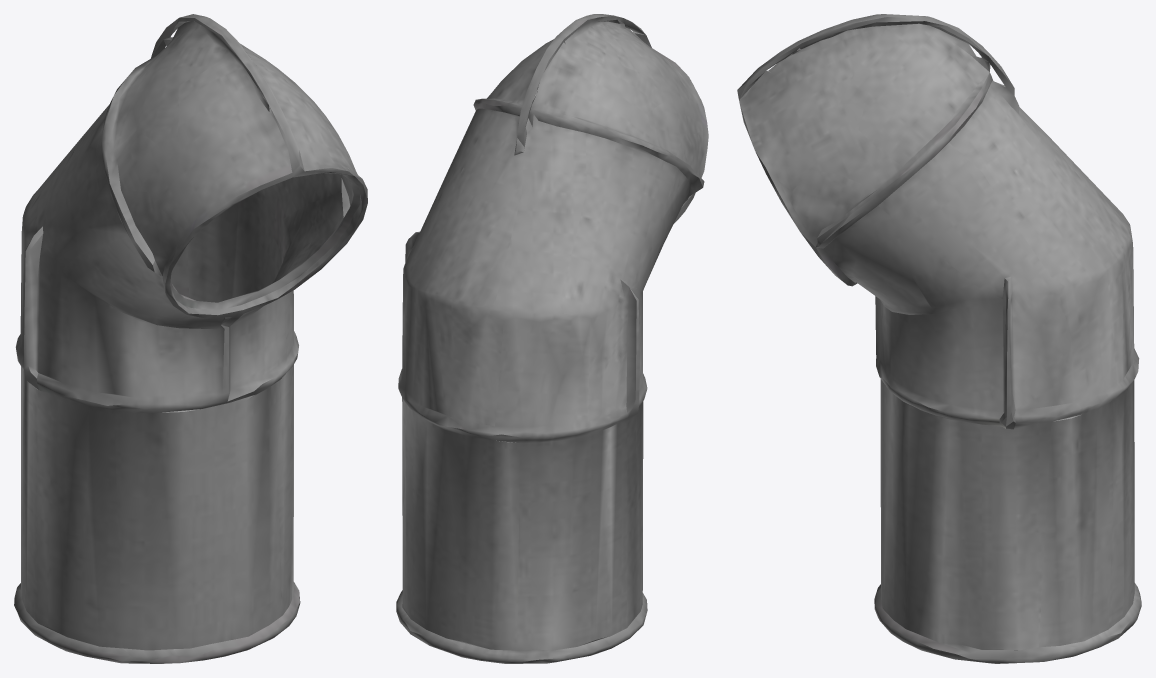
File: duct.glb
3 renders of one model, left to right at view 1: azimuth 30°, elevation 25°; view 2: azimuth 150°, elevation 25°; view 3: azimuth 270°, elevation 25°, orthographic. The views are drawn at different scales.
Visible parts, largest first — view 1: duct; view 2: duct; view 3: duct.
Boxes of the visible parts, x1,y1,x2,y2 form: duct: [14, 14, 367, 663]; duct: [396, 14, 708, 663]; duct: [737, 14, 1141, 663].
Size of the model in its own units: 0.7118 by 1.6 by 0.9868.
Materials: 1 (1 with a texture image).
